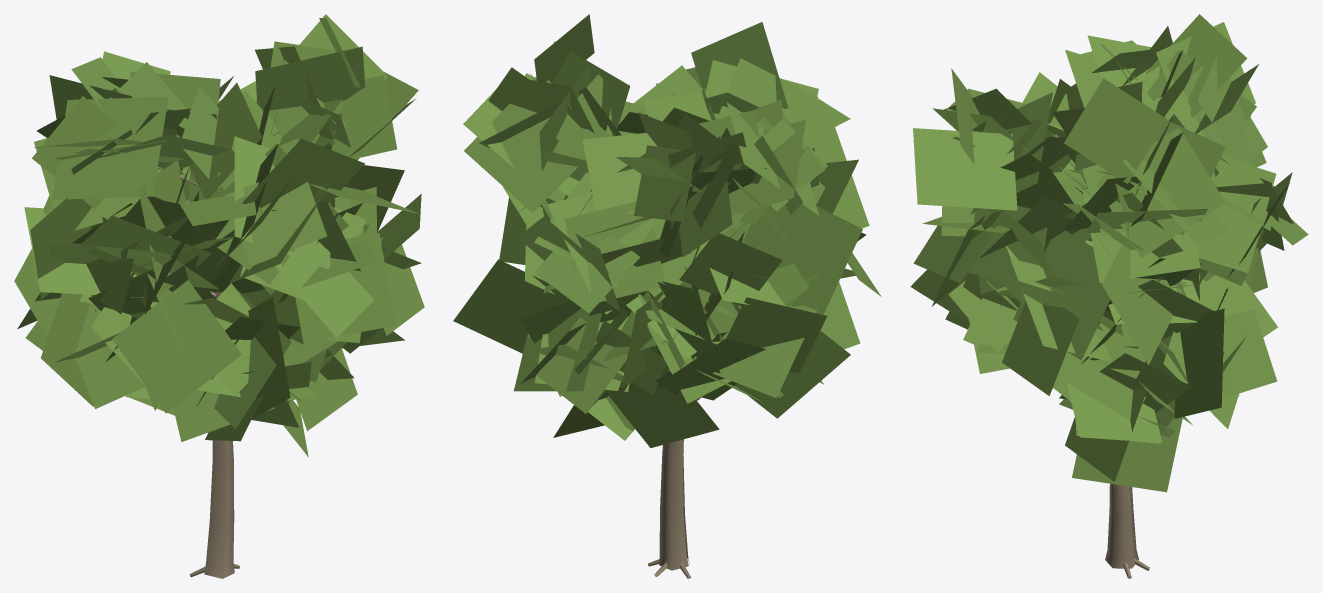
File: oak-5-lod2.glb
3 renders of one model, left to right at view 1: azimuth 30°, elevation 25°; view 2: azimuth 150°, elevation 25°; view 3: azimuth 270°, elevation 25°, orthographic. The views are drawn at different scales.
Visible parts, largest first — view 1: oak-5-lod2-foliage, oak-5-lod2-bark; view 2: oak-5-lod2-foliage, oak-5-lod2-bark; view 3: oak-5-lod2-foliage, oak-5-lod2-bark.
Boxes of the visible parts, x1,y1,x2,y2 form: oak-5-lod2-foliage: [14, 14, 424, 457]; oak-5-lod2-bark: [94, 131, 280, 578]; oak-5-lod2-foliage: [453, 14, 881, 448]; oak-5-lod2-bark: [648, 397, 700, 578]; oak-5-lod2-foliage: [910, 14, 1308, 492]; oak-5-lod2-bark: [985, 159, 1149, 578].
Bounding box in the file's own units: 9.95 × 13.6 × 9.14.
